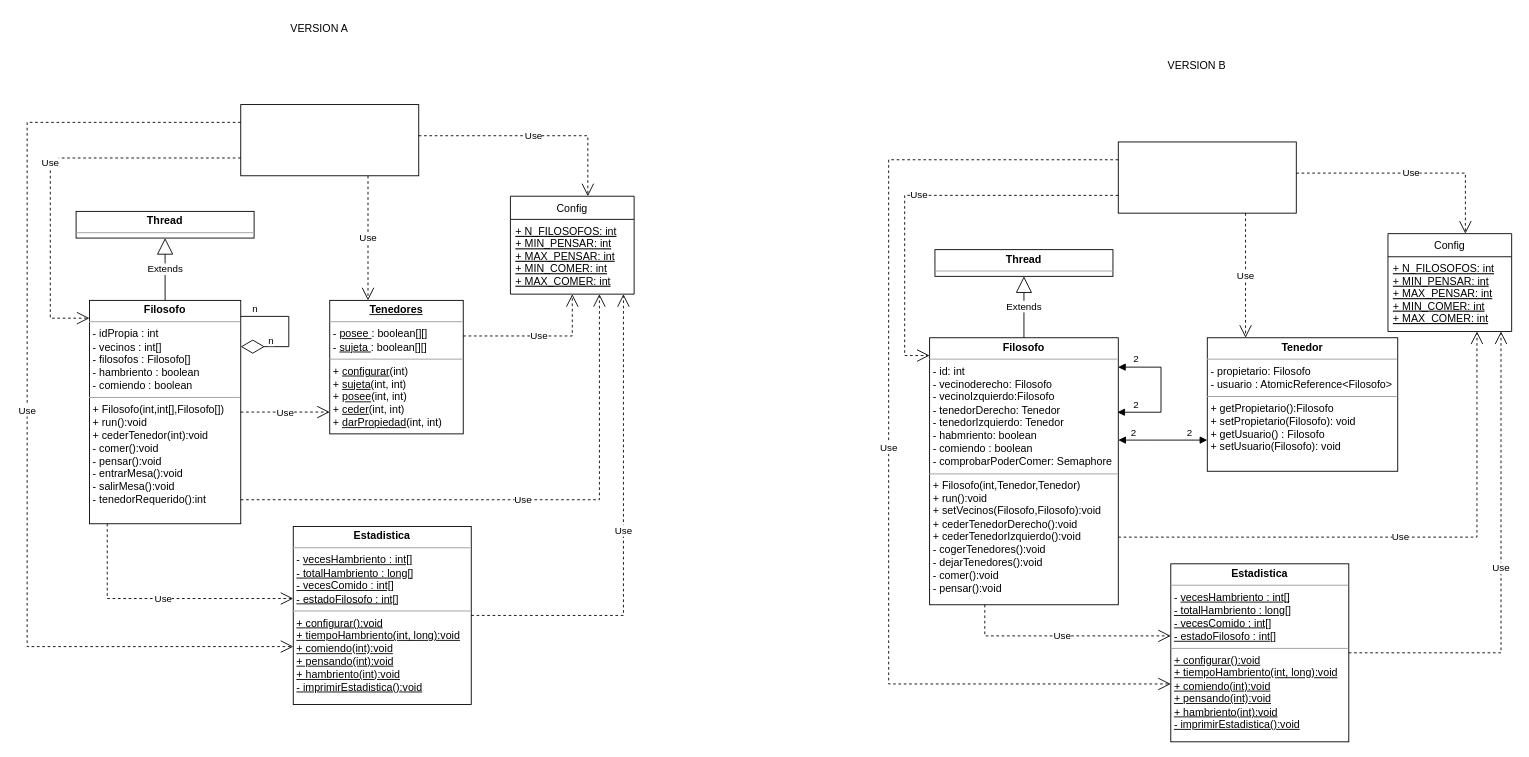
This 1529x757 diagram has some shape labels left out. The shapes that lost their labels are listed below. From the top down, each one's centre as x and y in pixels, then its label:
(329,140): MainReto6A + main ()
(1206,177): MainReto6B + main ()
